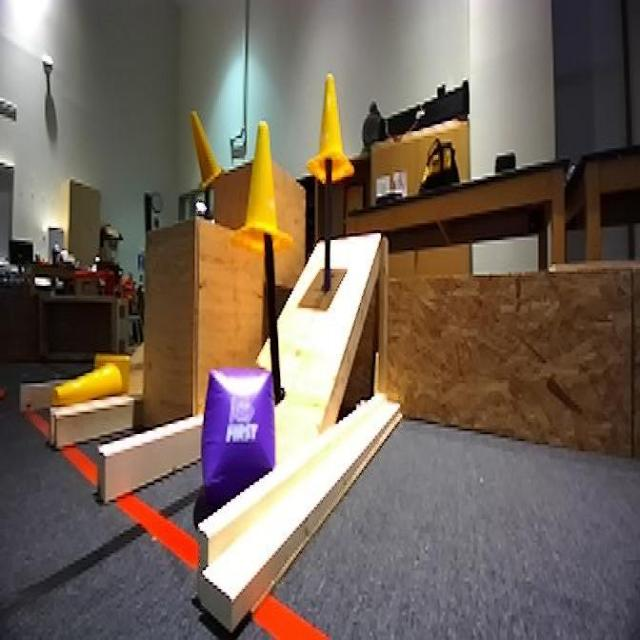frc_cone: (236, 124, 294, 250), (307, 72, 353, 186), (59, 351, 133, 414), (192, 107, 223, 194)
frc_cube: (191, 361, 276, 505)
